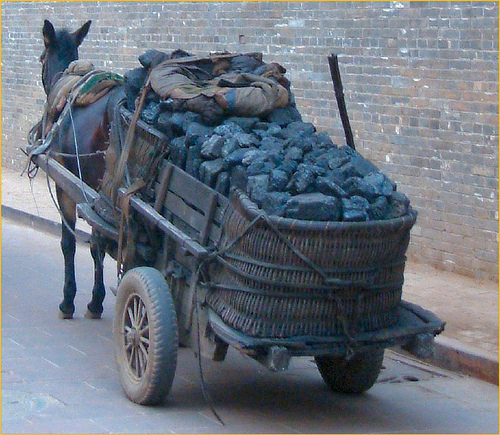horse: (36, 16, 133, 323)
